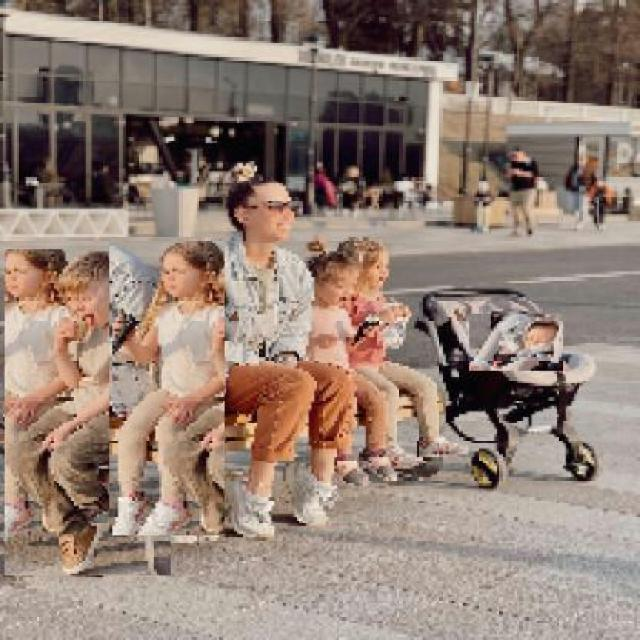child: (3, 249, 171, 577), (107, 237, 224, 537), (307, 235, 399, 488), (467, 314, 564, 372)
